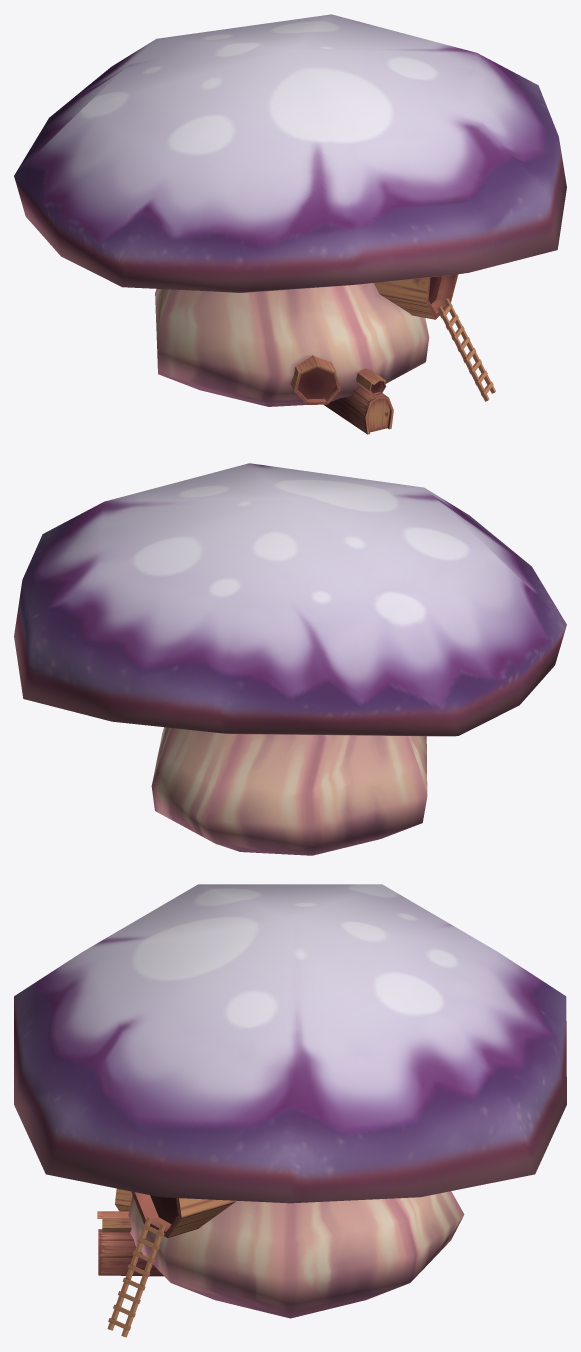
Rendered from MD_mushroom_home_S.fbx.
3 renders of one model, top to bottom at view 1: azimuth 30°, elevation 25°; view 2: azimuth 150°, elevation 25°; view 3: azimuth 270°, elevation 25°, orthographic. The views are drawn at different scales.
Visible parts, largest first — view 1: pCone1, pCube2, pCylinder24, pCube3, pCylinder10, pCube80, pCylinder1; view 2: pCone1, pCube2; view 3: pCone1, pCube2, pCylinder24, pCube80, pCube3, pCylinder1.
Part boxes in pixels (bbox=[...]): pCone1: bbox=[14, 14, 566, 292]; pCube2: bbox=[155, 283, 429, 406]; pCylinder24: bbox=[374, 274, 458, 319]; pCube3: bbox=[324, 387, 393, 434]; pCylinder10: bbox=[290, 355, 340, 404]; pCube80: bbox=[437, 298, 495, 401]; pCylinder1: bbox=[356, 368, 386, 395]; pCone1: bbox=[14, 463, 566, 736]; pCube2: bbox=[151, 727, 427, 855]; pCone1: bbox=[14, 884, 566, 1203]; pCube2: bbox=[128, 1191, 464, 1318]; pCylinder24: bbox=[131, 1191, 236, 1237]; pCube80: bbox=[107, 1217, 165, 1337]; pCube3: bbox=[98, 1229, 163, 1276]; pCylinder1: bbox=[97, 1211, 131, 1232].
Bounding box in the file's own units: 1514 × 949 × 1361.
1 material, 1 textured.
